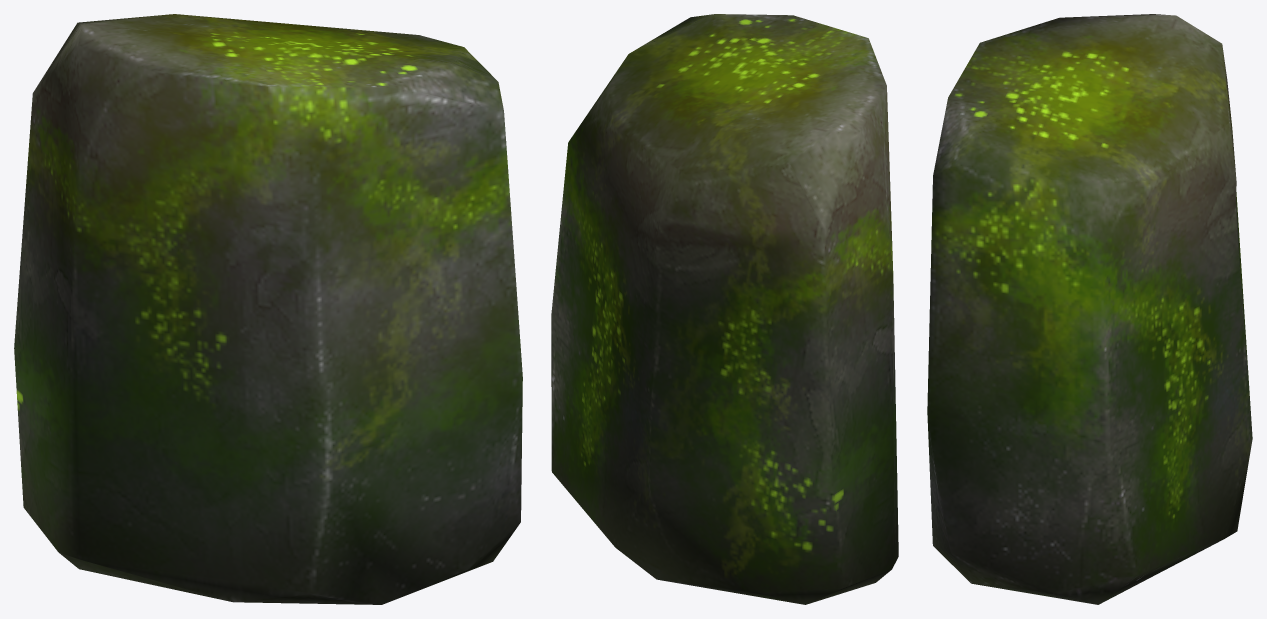
Rendered from rock5.fbx.
The picture shows the model from 3 angles, left to right: view 1: azimuth 30°, elevation 25°; view 2: azimuth 150°, elevation 25°; view 3: azimuth 270°, elevation 25°; orthographic projection. The views are drawn at different scales.
Visible parts, largest first — view 1: rocks1_4; view 2: rocks1_4; view 3: rocks1_4.
Boxes of the visible parts, x1,y1,x2,y2 form: rocks1_4: [14, 14, 522, 604]; rocks1_4: [551, 14, 898, 604]; rocks1_4: [927, 14, 1252, 604].
Size of the model in its own units: 324 by 403 by 264.
